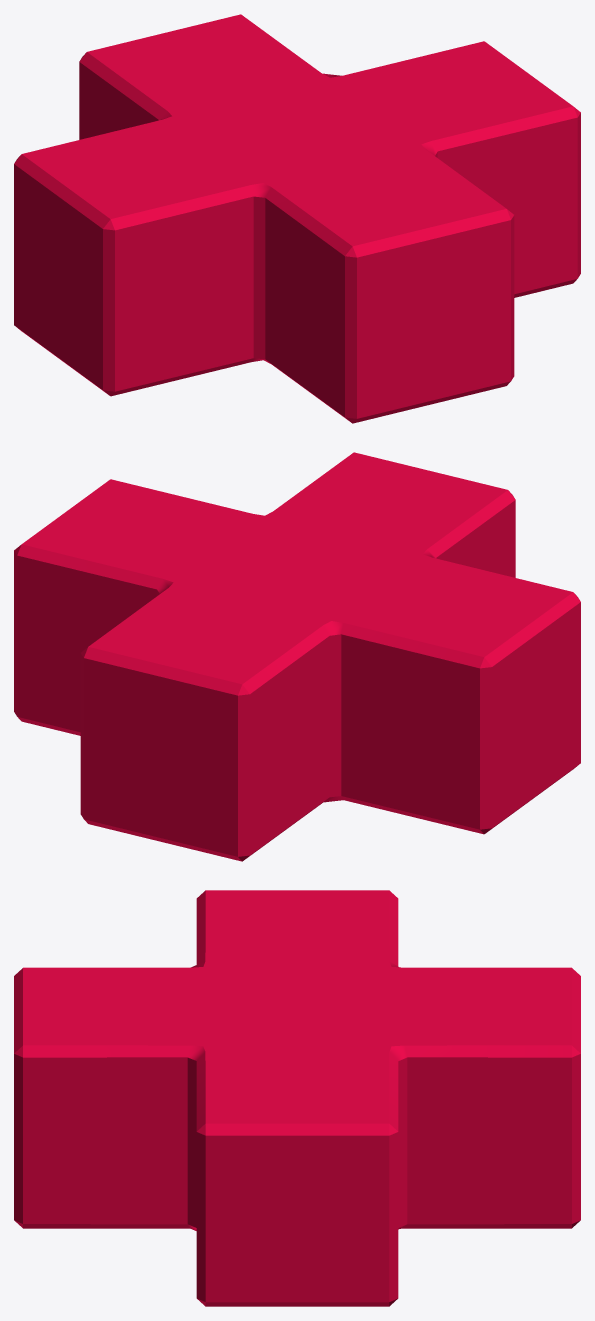
Rendered from Logic_Cross_03.fbx.
The picture shows the model from 3 angles, top to bottom: view 1: azimuth 30°, elevation 25°; view 2: azimuth 150°, elevation 25°; view 3: azimuth 270°, elevation 25°; orthographic projection. The views are drawn at different scales.
Parts seen in each view (by area): view 1: Logic_Cross_03; view 2: Logic_Cross_03; view 3: Logic_Cross_03.
Boxes of the visible parts, <box> form: Logic_Cross_03: <box>14,14,580,423</box>; Logic_Cross_03: <box>14,452,580,861</box>; Logic_Cross_03: <box>14,890,580,1306</box>.
Size of the model in its own units: 5.83 by 2.06 by 5.8.
